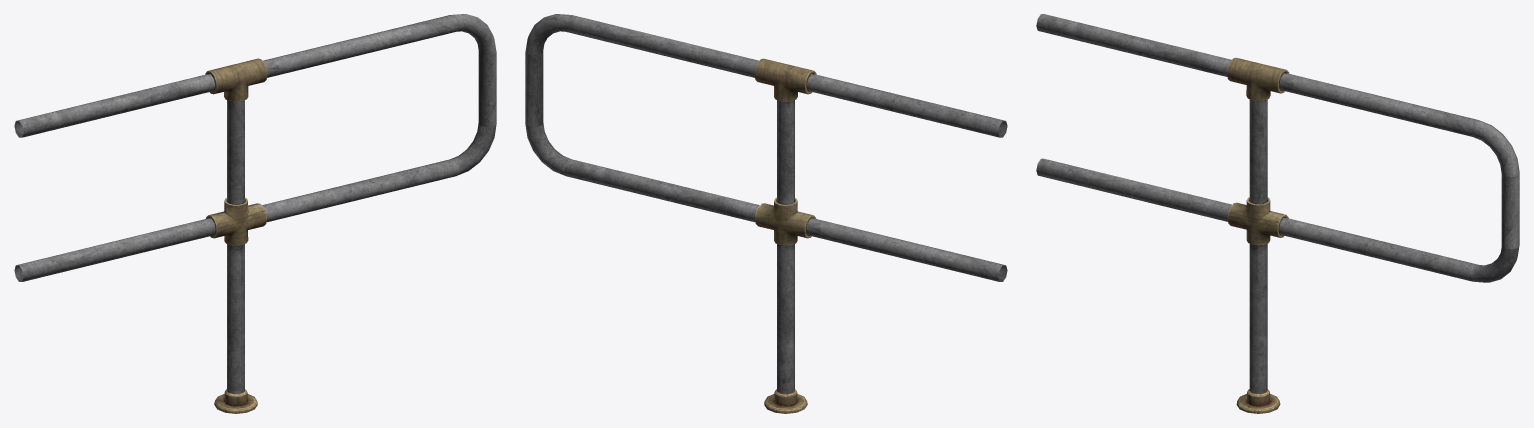
Rendered from railing_pplant_end.dae.
The picture shows the model from 3 angles, left to right: view 1: azimuth 30°, elevation 25°; view 2: azimuth 150°, elevation 25°; view 3: azimuth 330°, elevation 25°; orthographic projection.
Parts seen in each view (by area): view 1: railing_pplant_end_chainlink; view 2: railing_pplant_end_chainlink; view 3: railing_pplant_end_chainlink.
Boxes of the visible parts, x1,y1,x2,y2 form: railing_pplant_end_chainlink: (14, 14, 496, 413); railing_pplant_end_chainlink: (525, 14, 1007, 413); railing_pplant_end_chainlink: (1036, 14, 1519, 413).
Size of the model in its own units: 2.2 by 1.49 by 0.1737.
